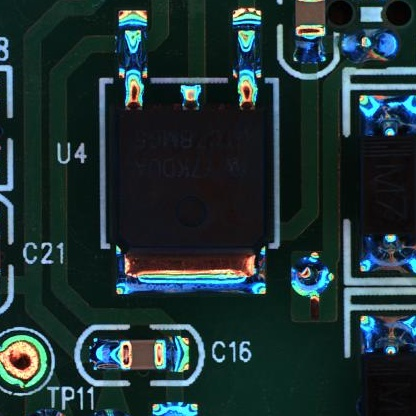spot: (1, 335, 47, 387), (339, 29, 399, 64), (290, 255, 331, 299)
